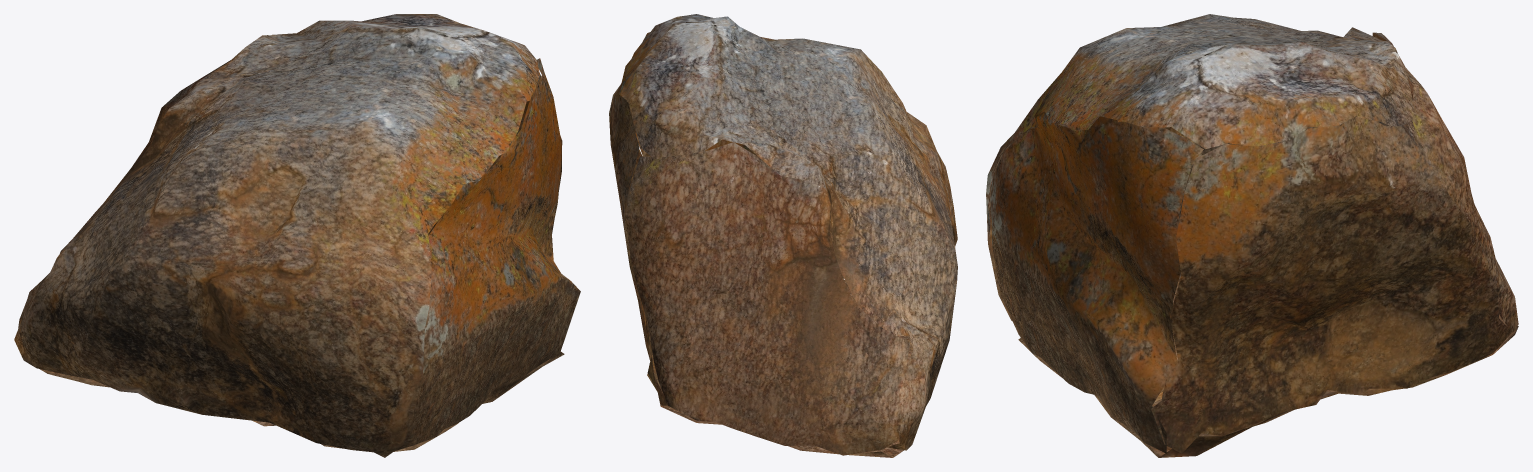
File: namaqualand_boulder_04.glb
3 renders of one model, left to right at view 1: azimuth 30°, elevation 25°; view 2: azimuth 150°, elevation 25°; view 3: azimuth 270°, elevation 25°, orthographic. The views are drawn at different scales.
Parts seen in each view (by area): view 1: boulder_04; view 2: boulder_04; view 3: boulder_04.
Boxes of the visible parts, x1,y1,x2,y2 form: boulder_04: (14,14,580,457); boulder_04: (609,14,957,457); boulder_04: (986,14,1518,457).
Size of the model in its own units: 2.51 by 1.88 by 2.48.
1 material, 1 textured.
